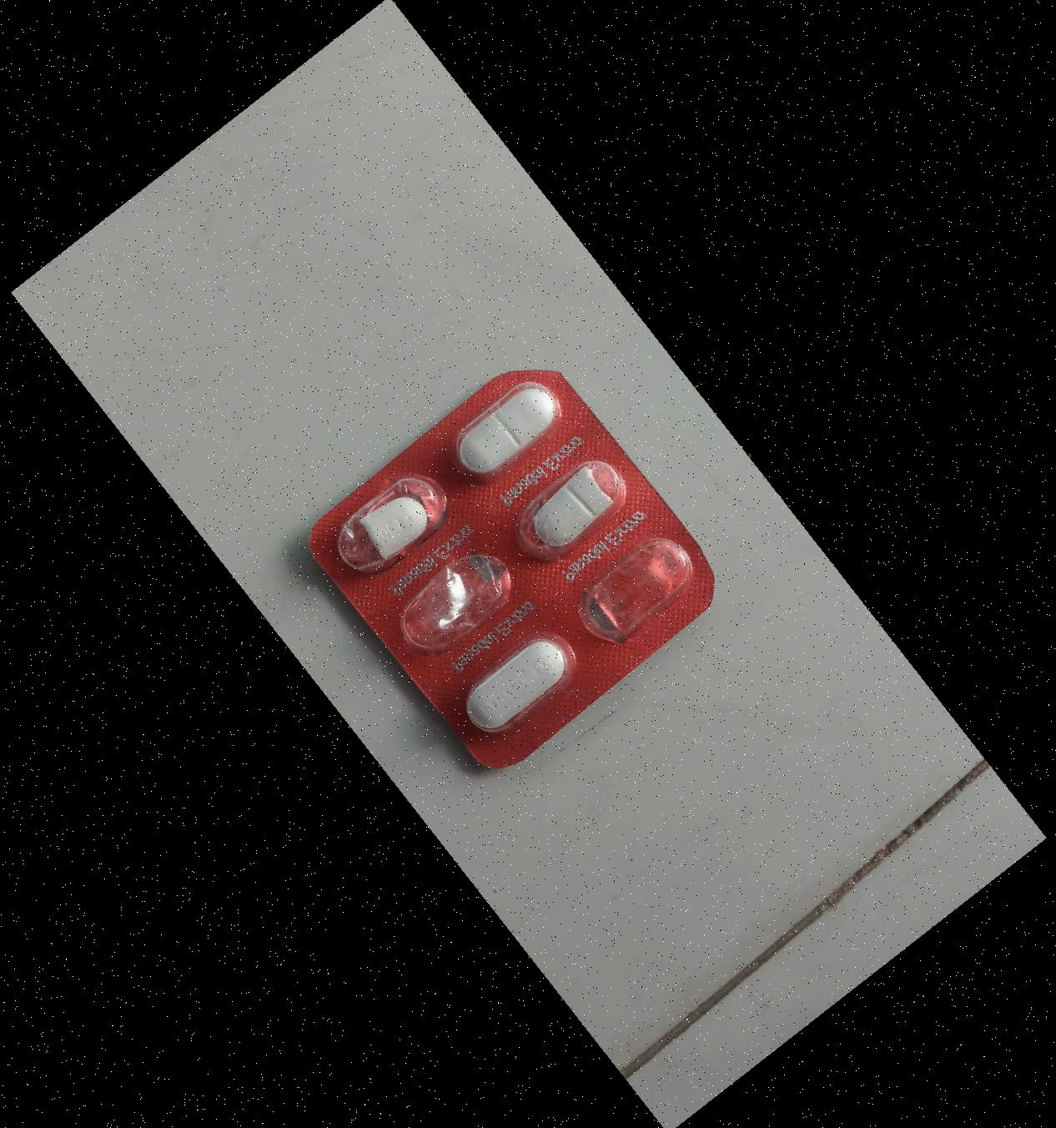Empty: (376, 532, 538, 678), (554, 516, 716, 662)
Full: (437, 613, 599, 760), (426, 361, 588, 507)
Partial: (489, 451, 652, 597), (315, 452, 477, 598)
